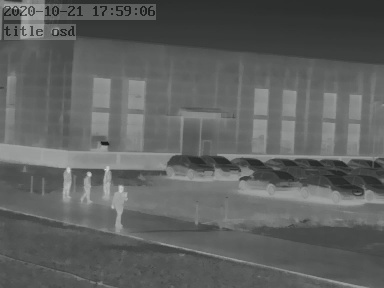person: (112, 185, 127, 229), (81, 171, 93, 204), (101, 164, 112, 199), (62, 167, 73, 200)
vehicle: (238, 169, 303, 194), (301, 173, 358, 200), (165, 153, 212, 179), (354, 173, 384, 203), (205, 153, 242, 177), (232, 155, 270, 171), (262, 155, 296, 169), (348, 156, 381, 170), (317, 156, 347, 170), (295, 155, 324, 169)
